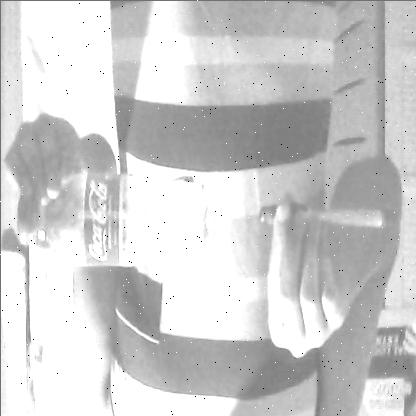Plastic Bottle: (11, 159, 212, 280)
